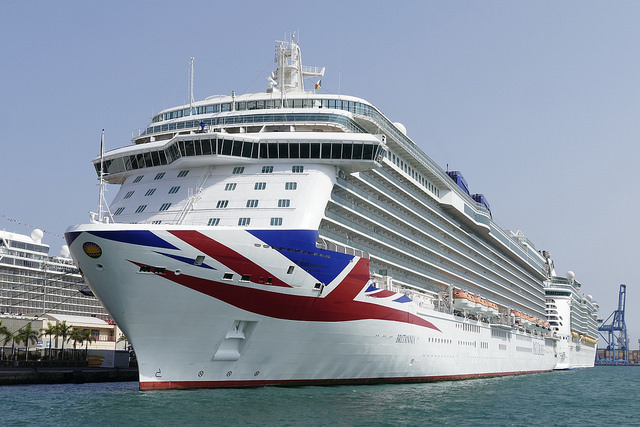cruise_ship: (64, 34, 559, 392)
